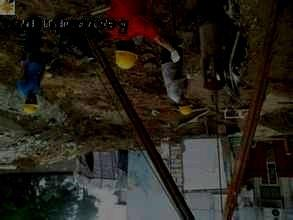helmet: (113, 40, 139, 70), (22, 92, 39, 114), (177, 98, 193, 115)
